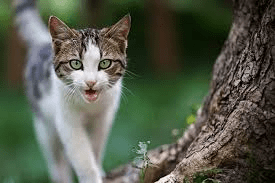cat: (17, 8, 133, 182)
